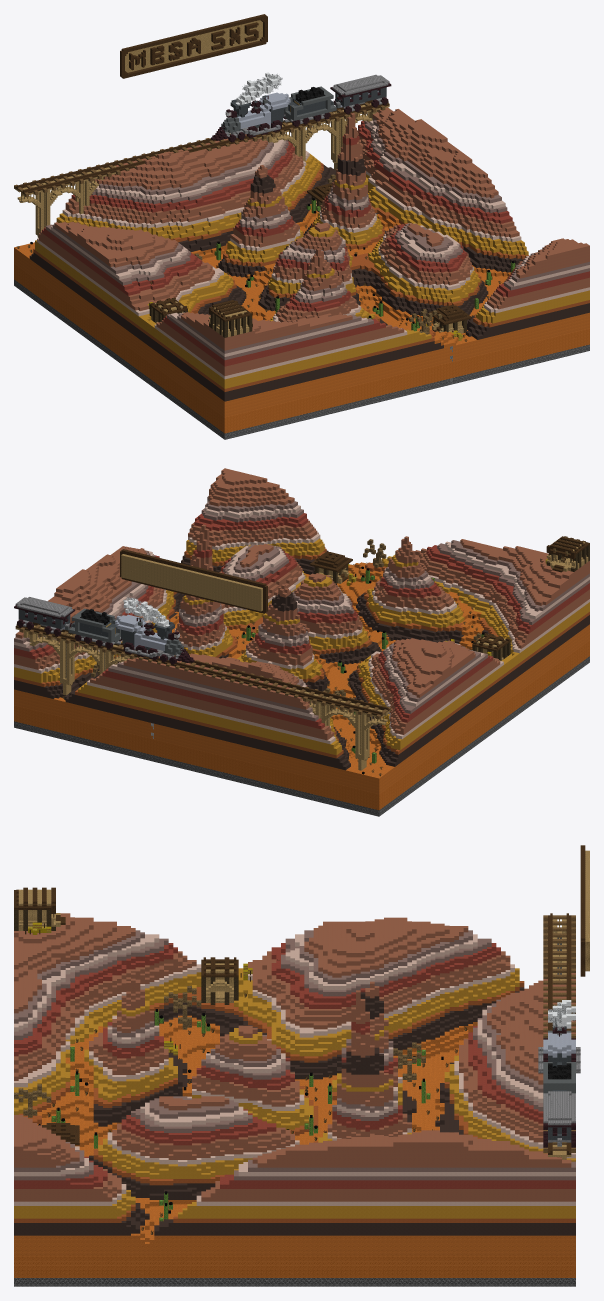
Rendered from minecraft.obj.
3 renders of one model, top to bottom at view 1: azimuth 30°, elevation 25°; view 2: azimuth 150°, elevation 25°; view 3: azimuth 270°, elevation 25°, orthographic. The views are drawn at different scales.
Size of the model in its own units: 1200 by 650 by 1230.
